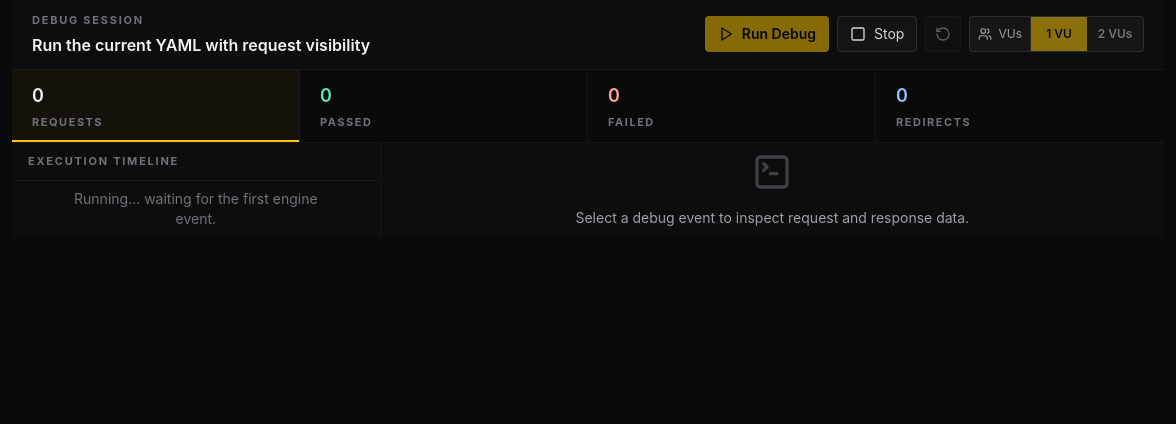
Test case: YAMLDebugSession tree selection sync › shows regex extractor values from the selected response body in the variables tab
Click the button "Run Debug" at point(767, 34), box [705, 16, 829, 52]
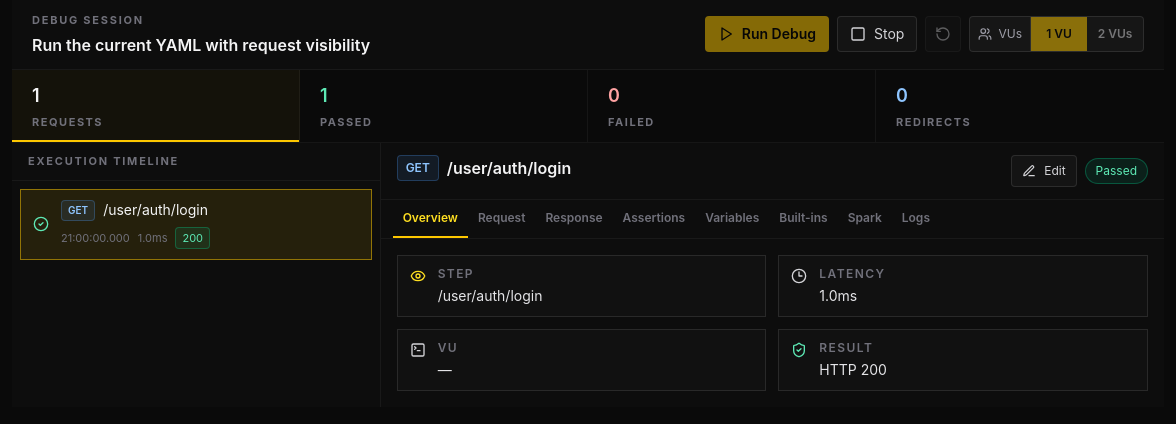
Click the button "Variables" at point(732, 219), box [695, 200, 769, 238]
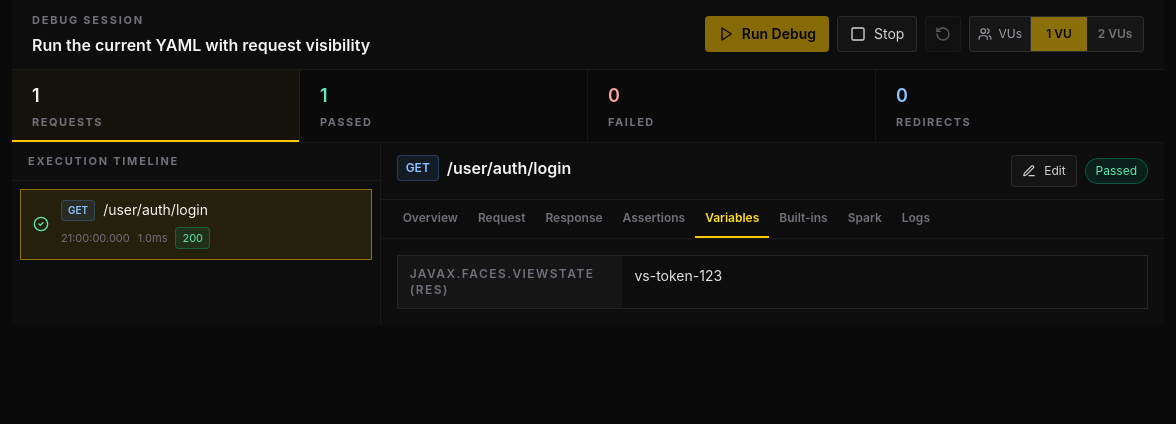
expect the text "javax.faces.ViewState (RES)" is shown: met, box [398, 256, 622, 308]
expect the text "vs-token-123" is shown: met, box [634, 267, 722, 284]
